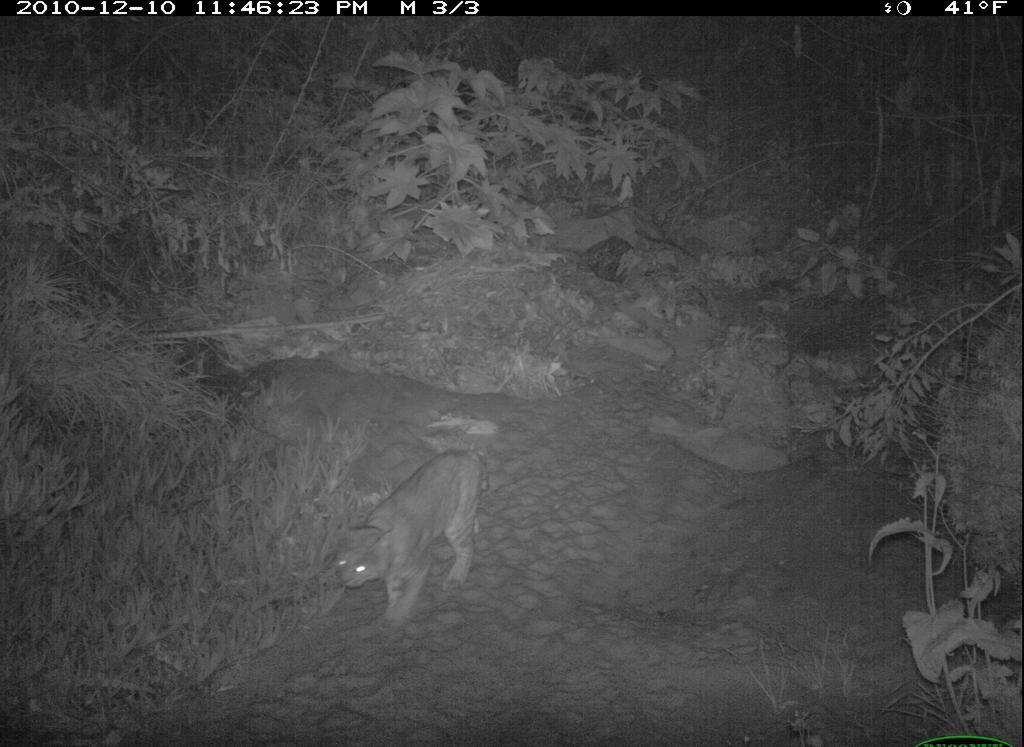bobcat: (326, 445, 498, 634)
